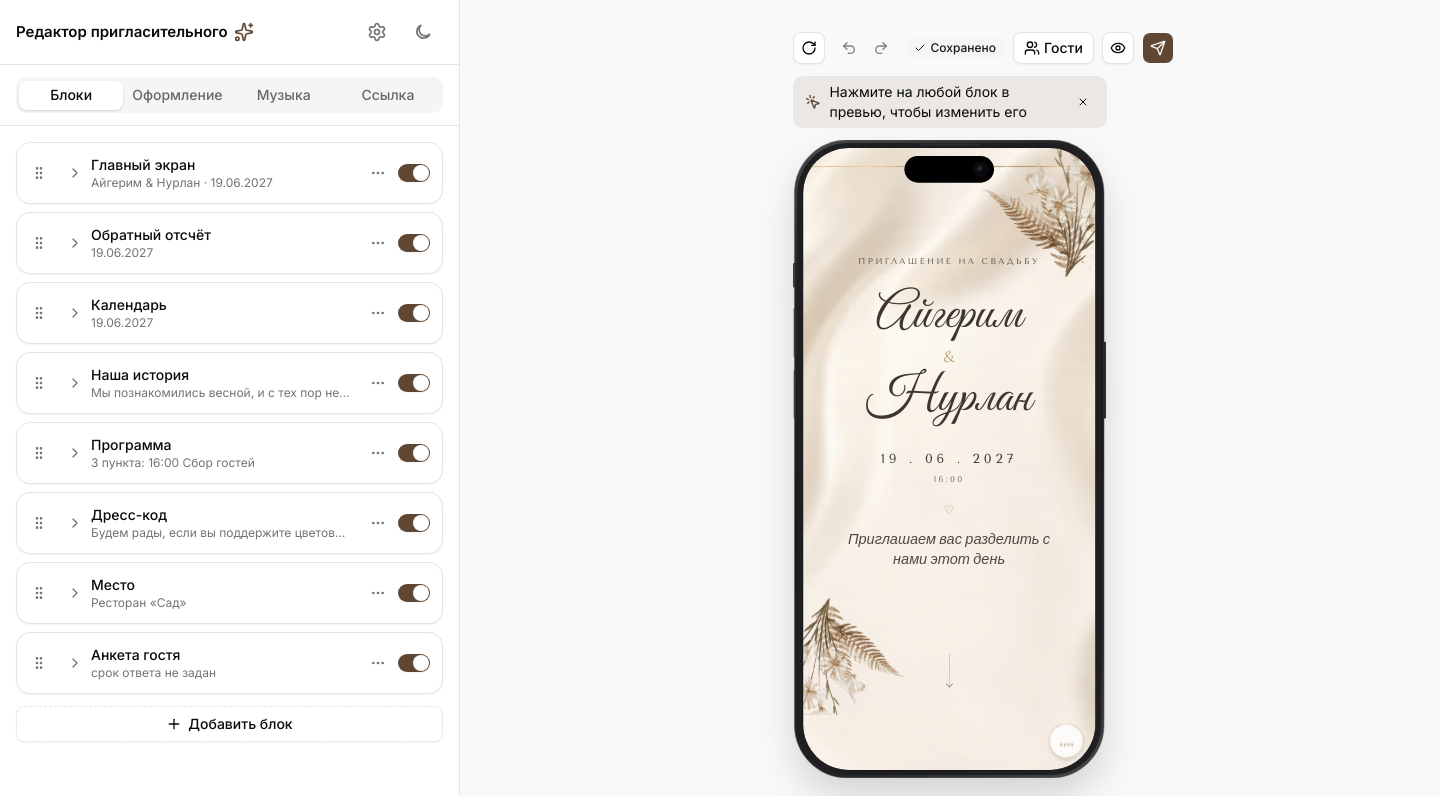
Editor › пустые имена показывают ошибку и не сохраняются
Click the button "Главный экран": (208, 173) [59,149,358,197]
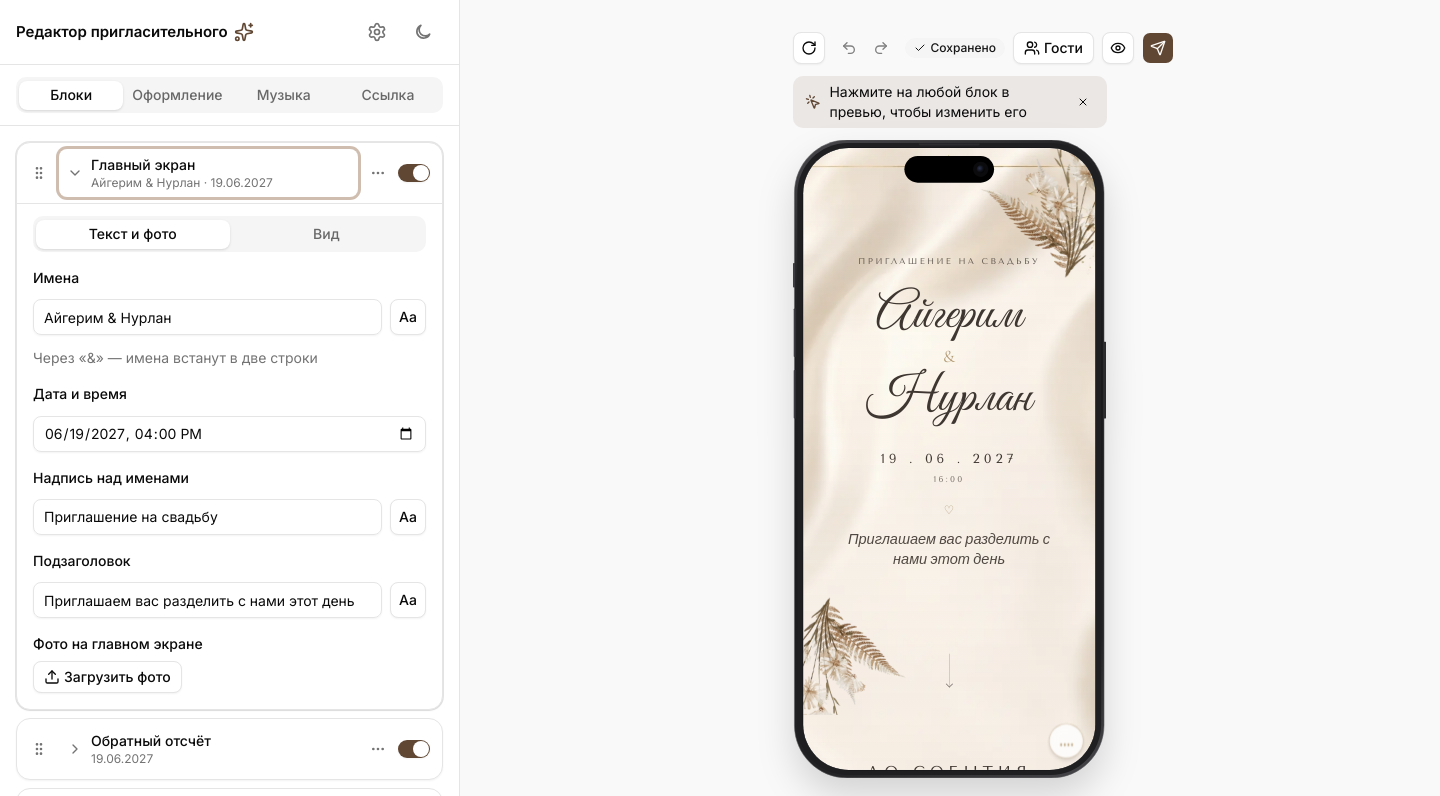
Clear the field labelled "Имена": (208, 317) [33,299,382,335]
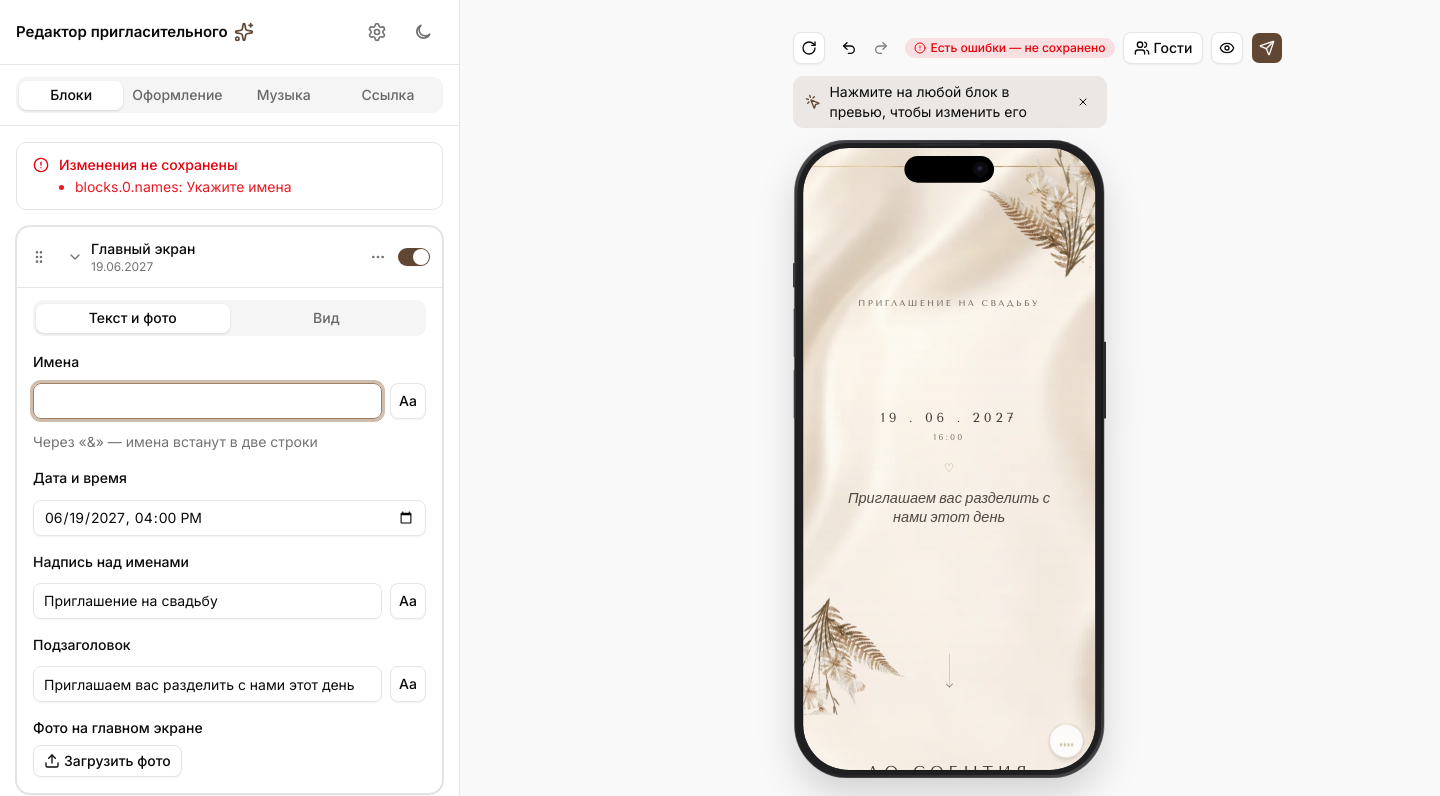
Check: the message with test id "save-status" shows "Есть ошибки", box [930,40,1106,55]
Check: the message "Изменения не сохранены blocks.0.names: Укажите имена" is shown, box [16,142,443,210]
